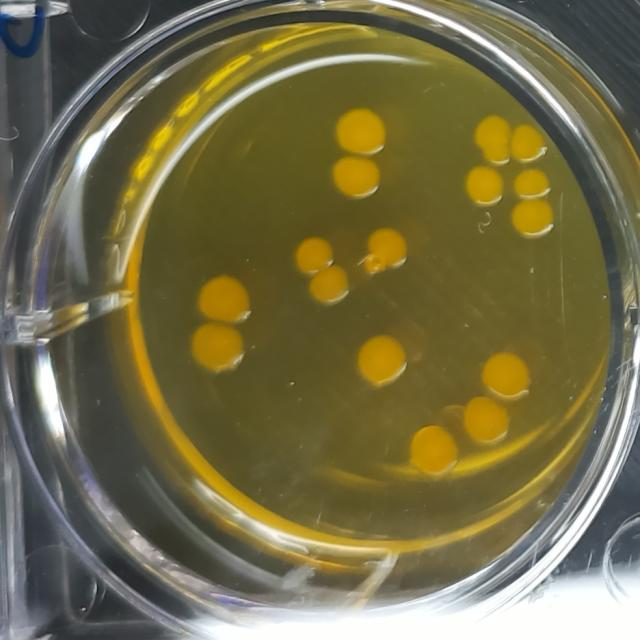vibrio: (350, 327, 413, 391), (407, 420, 465, 484), (187, 322, 252, 377), (191, 272, 256, 326), (478, 348, 536, 406), (334, 104, 388, 162), (459, 394, 514, 448), (357, 226, 412, 276), (328, 154, 384, 202), (474, 112, 514, 169), (507, 197, 557, 239), (462, 161, 507, 207), (308, 266, 355, 306), (294, 232, 334, 277), (510, 121, 549, 166), (512, 164, 551, 202)
